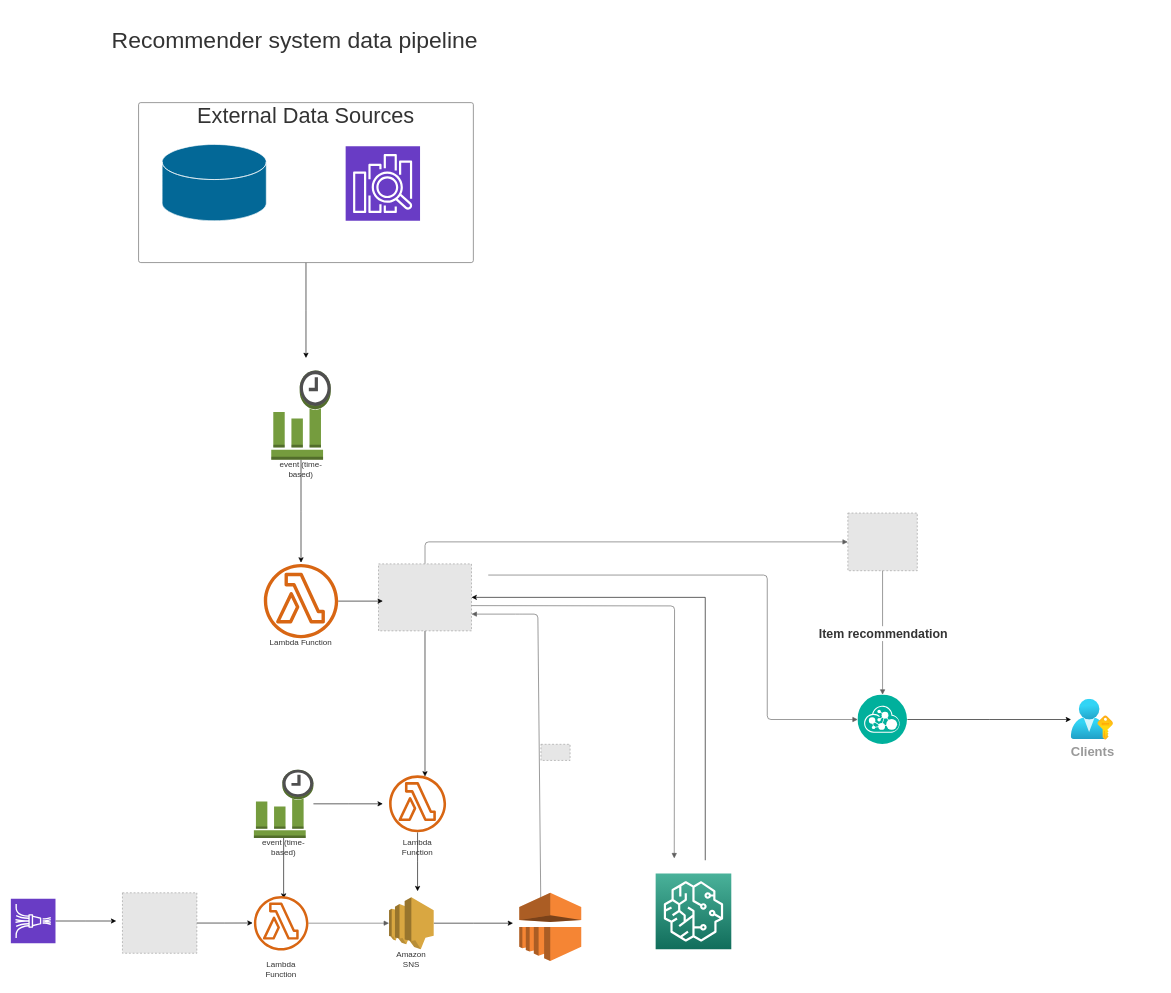
Some shapes in this 1171 by 993 pixel diagram are drawn without their labels. Grey dashed boxes stand in for pictures. The shapes that lost their labels are listed below. From the top down, each one's centre as x and y in pixels, then its label:
At pixel 214 182: "RDBMS".
At pixel 382 183: "ELastic Search".
At pixel 882 719: "Intercepter".
At pixel 32 920: "Amazon Kinesis Data Firehose".
